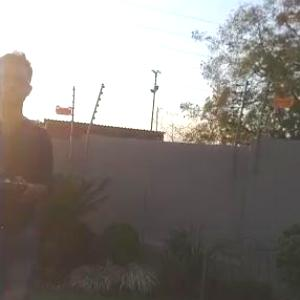follow: (0, 45, 68, 299)
